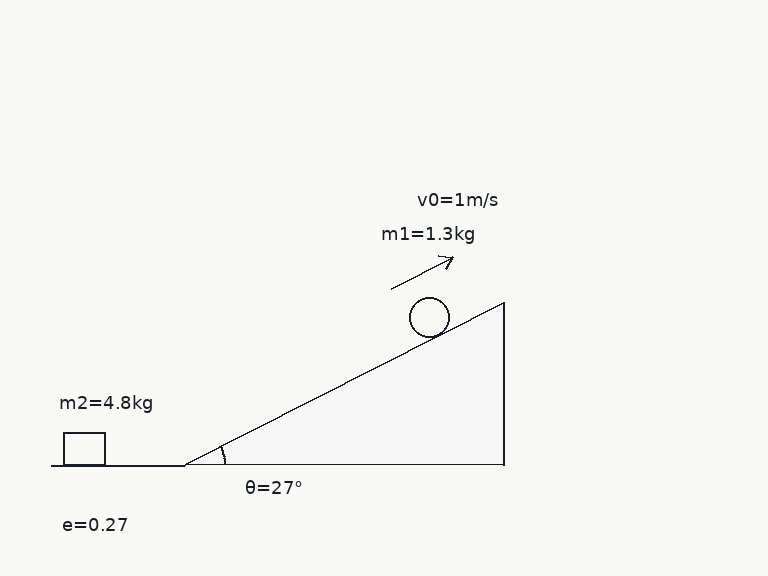ball: (407, 295, 451, 339)
block: (61, 431, 107, 466)
ramp: (183, 300, 505, 466)
